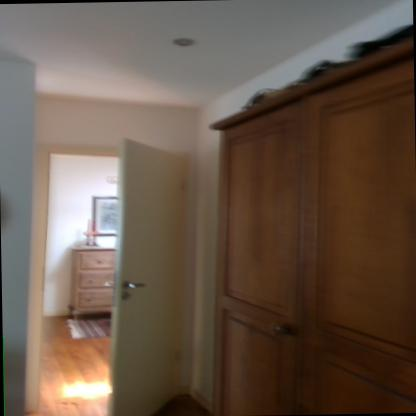semi: (21, 126, 208, 415)
